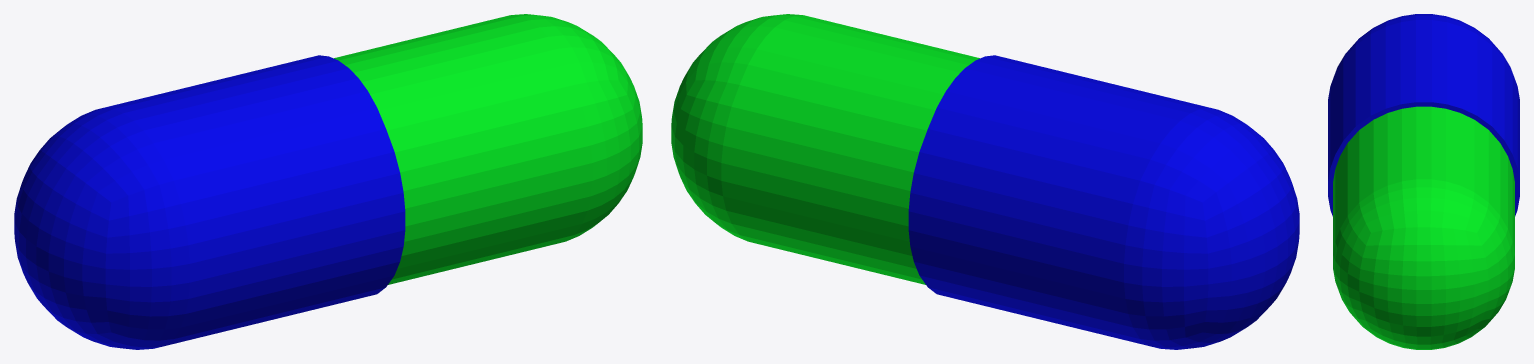
File: BlueGreenPillBlender.fbx
3 views of the same model, side by side, from view 1: azimuth 30°, elevation 25°; view 2: azimuth 150°, elevation 25°; view 3: azimuth 270°, elevation 25° (orthographic). The views are drawn at different scales.
Visible parts, largest first — view 1: Roundcube.001, Roundcube; view 2: Roundcube.001, Roundcube; view 3: Roundcube, Roundcube.001.
Part boxes in pixels (left/top/right/bottom): Roundcube.001: left=14, top=55, right=405, bottom=349; Roundcube: left=334, top=14, right=642, bottom=284; Roundcube.001: left=908, top=55, right=1299, bottom=349; Roundcube: left=671, top=14, right=979, bottom=284; Roundcube: left=1333, top=106, right=1514, bottom=349; Roundcube.001: left=1328, top=14, right=1519, bottom=216.
Size of the model in its own units: 591 by 211 by 211.
